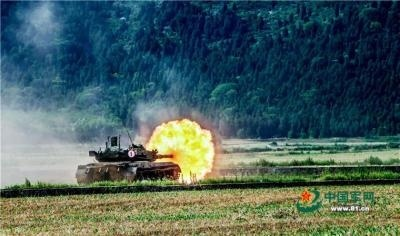fire: (141, 116, 216, 182)
